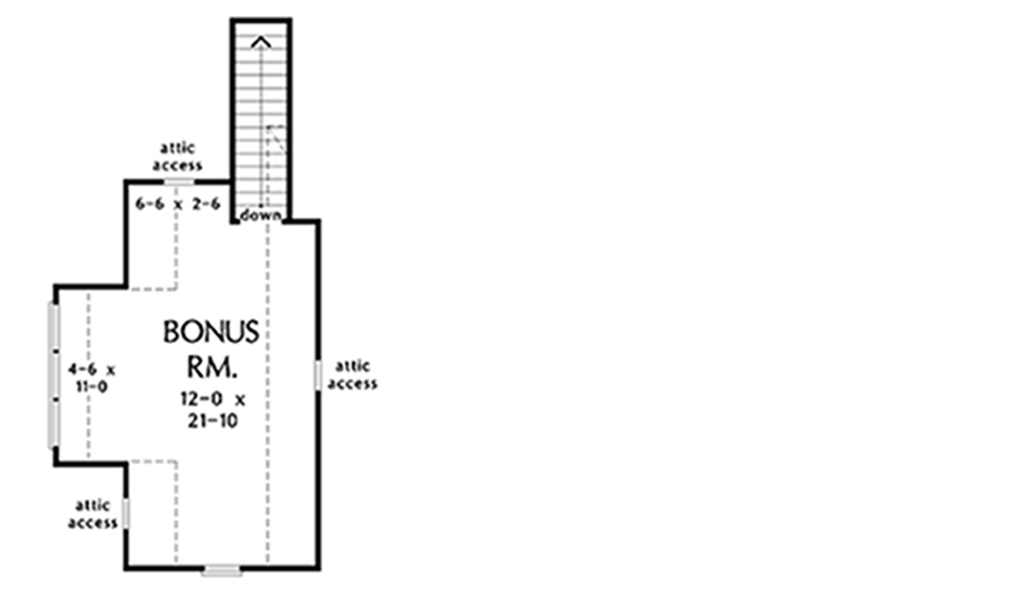stairs: (232, 16, 293, 224)
window: (47, 304, 64, 448), (200, 558, 236, 578), (116, 491, 131, 531), (163, 175, 200, 187), (312, 362, 322, 391)
